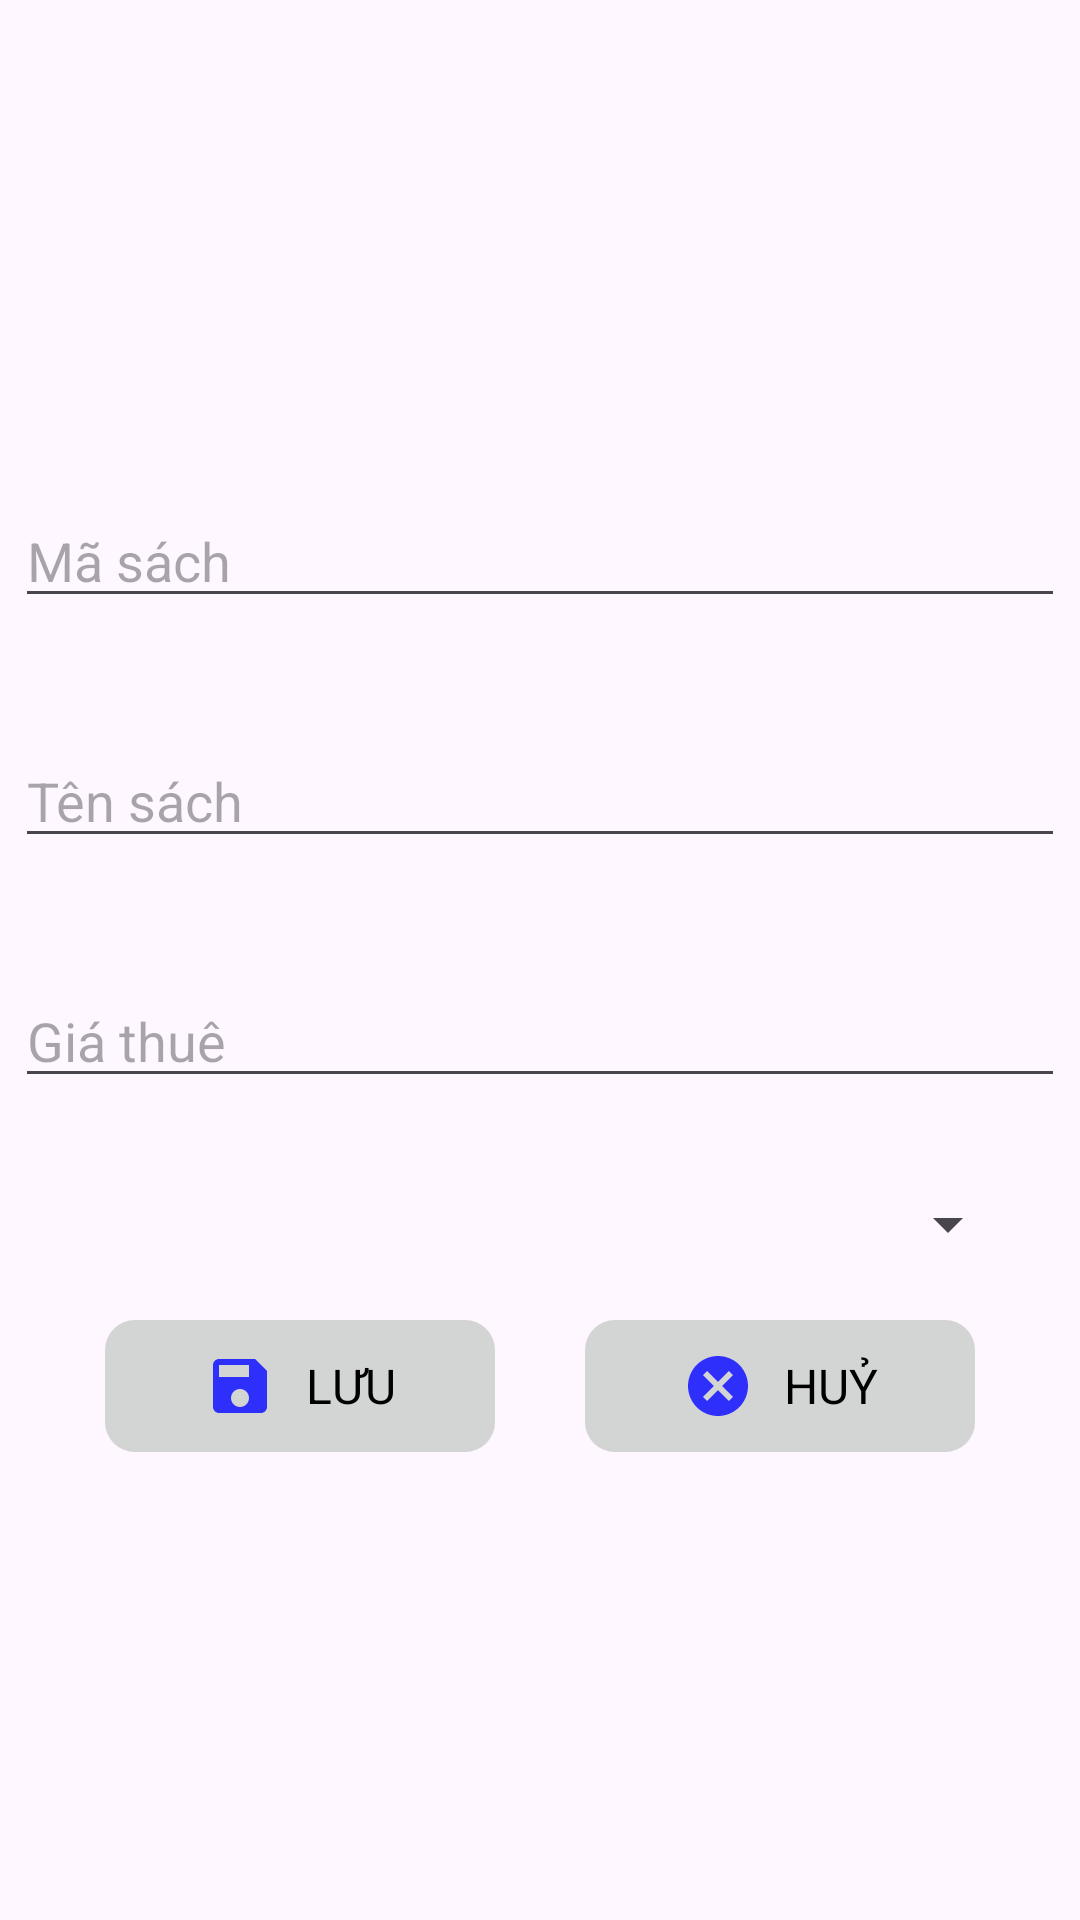

Screen size 1080 × 1920. Icon name, then its box in pixels as bbox=[x1, y1, x2, y2]:
cancel: bbox=[688, 1356, 748, 1416]
save: bbox=[213, 1359, 267, 1413]
